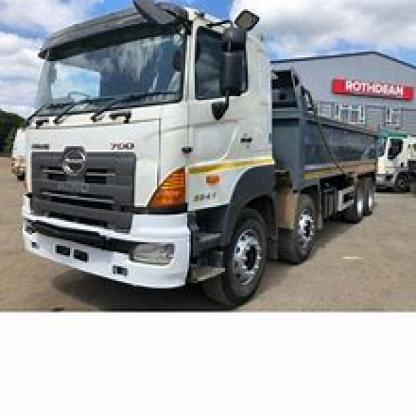dump_truck: (19, 9, 395, 309)
